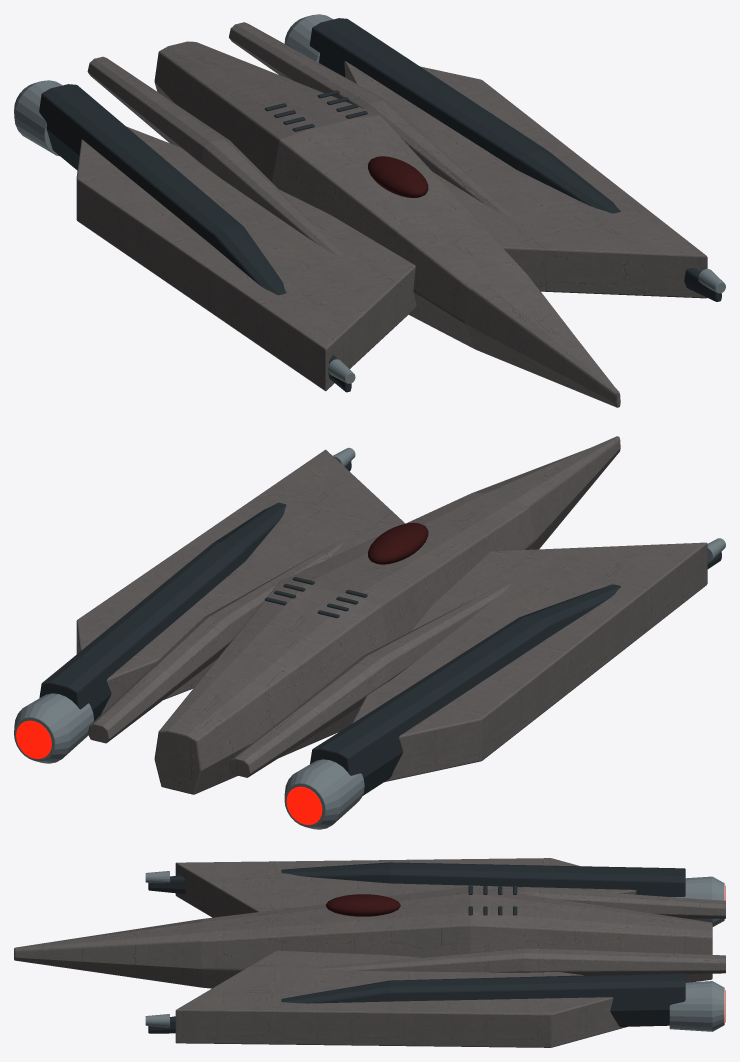
The model's file is space_fast_scout.glb.
The picture shows the model from 3 angles, top to bottom: view 1: azimuth 30°, elevation 25°; view 2: azimuth 150°, elevation 25°; view 3: azimuth 270°, elevation 25°; orthographic projection. The views are drawn at different scales.
Parts seen in each view (by area): view 1: fast_scout_surface_0, fast_scout_surface_1, fast_scout_surface_2, fast_scout_surface_4; view 2: fast_scout_surface_0, fast_scout_surface_1, fast_scout_surface_2, fast_scout_surface_3, fast_scout_surface_4; view 3: fast_scout_surface_0, fast_scout_surface_1, fast_scout_surface_2, fast_scout_surface_4.
Part boxes in pixels (x1,y1,x2,y2): fast_scout_surface_0: (76, 22, 707, 407); fast_scout_surface_1: (39, 18, 721, 392); fast_scout_surface_2: (14, 14, 725, 383); fast_scout_surface_4: (368, 156, 428, 198); fast_scout_surface_0: (76, 436, 707, 794); fast_scout_surface_1: (39, 461, 721, 795); fast_scout_surface_2: (14, 447, 725, 829); fast_scout_surface_3: (16, 720, 322, 824); fast_scout_surface_4: (368, 522, 428, 564); fast_scout_surface_0: (14, 858, 725, 1047); fast_scout_surface_1: (148, 862, 685, 1033); fast_scout_surface_2: (145, 871, 724, 1031); fast_scout_surface_4: (326, 894, 400, 916).
Bounding box in the file's own units: 13.8 × 4.05 × 26.5.
5 materials, 1 textured.
